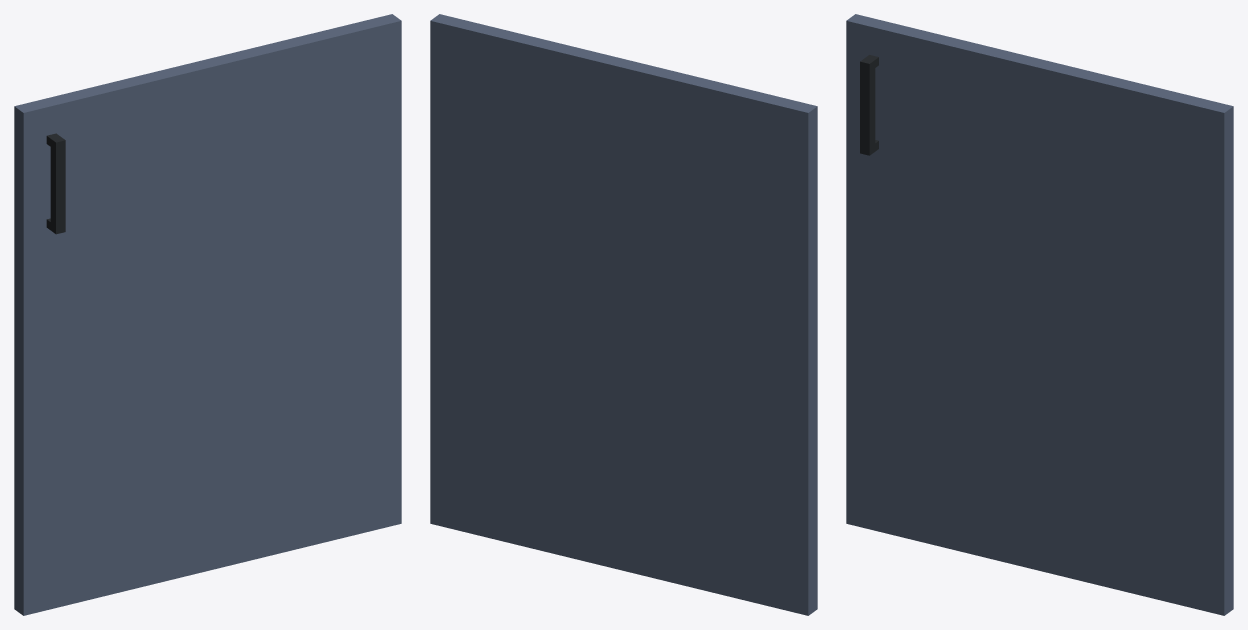
Rendered from Door1_C4_01.fbx.
3 views of the same model, side by side, from view 1: azimuth 30°, elevation 25°; view 2: azimuth 150°, elevation 25°; view 3: azimuth 330°, elevation 25° (orthographic).
Parts seen in each view (by area): view 1: Door1_C4_01; view 2: Door1_C4_01; view 3: Door1_C4_01.
Boxes of the visible parts, <box> form: Door1_C4_01: <box>14,14,401,615</box>; Door1_C4_01: <box>430,14,817,615</box>; Door1_C4_01: <box>846,14,1233,615</box>.
Size of the model in its own units: 59 by 75 by 5.03.
